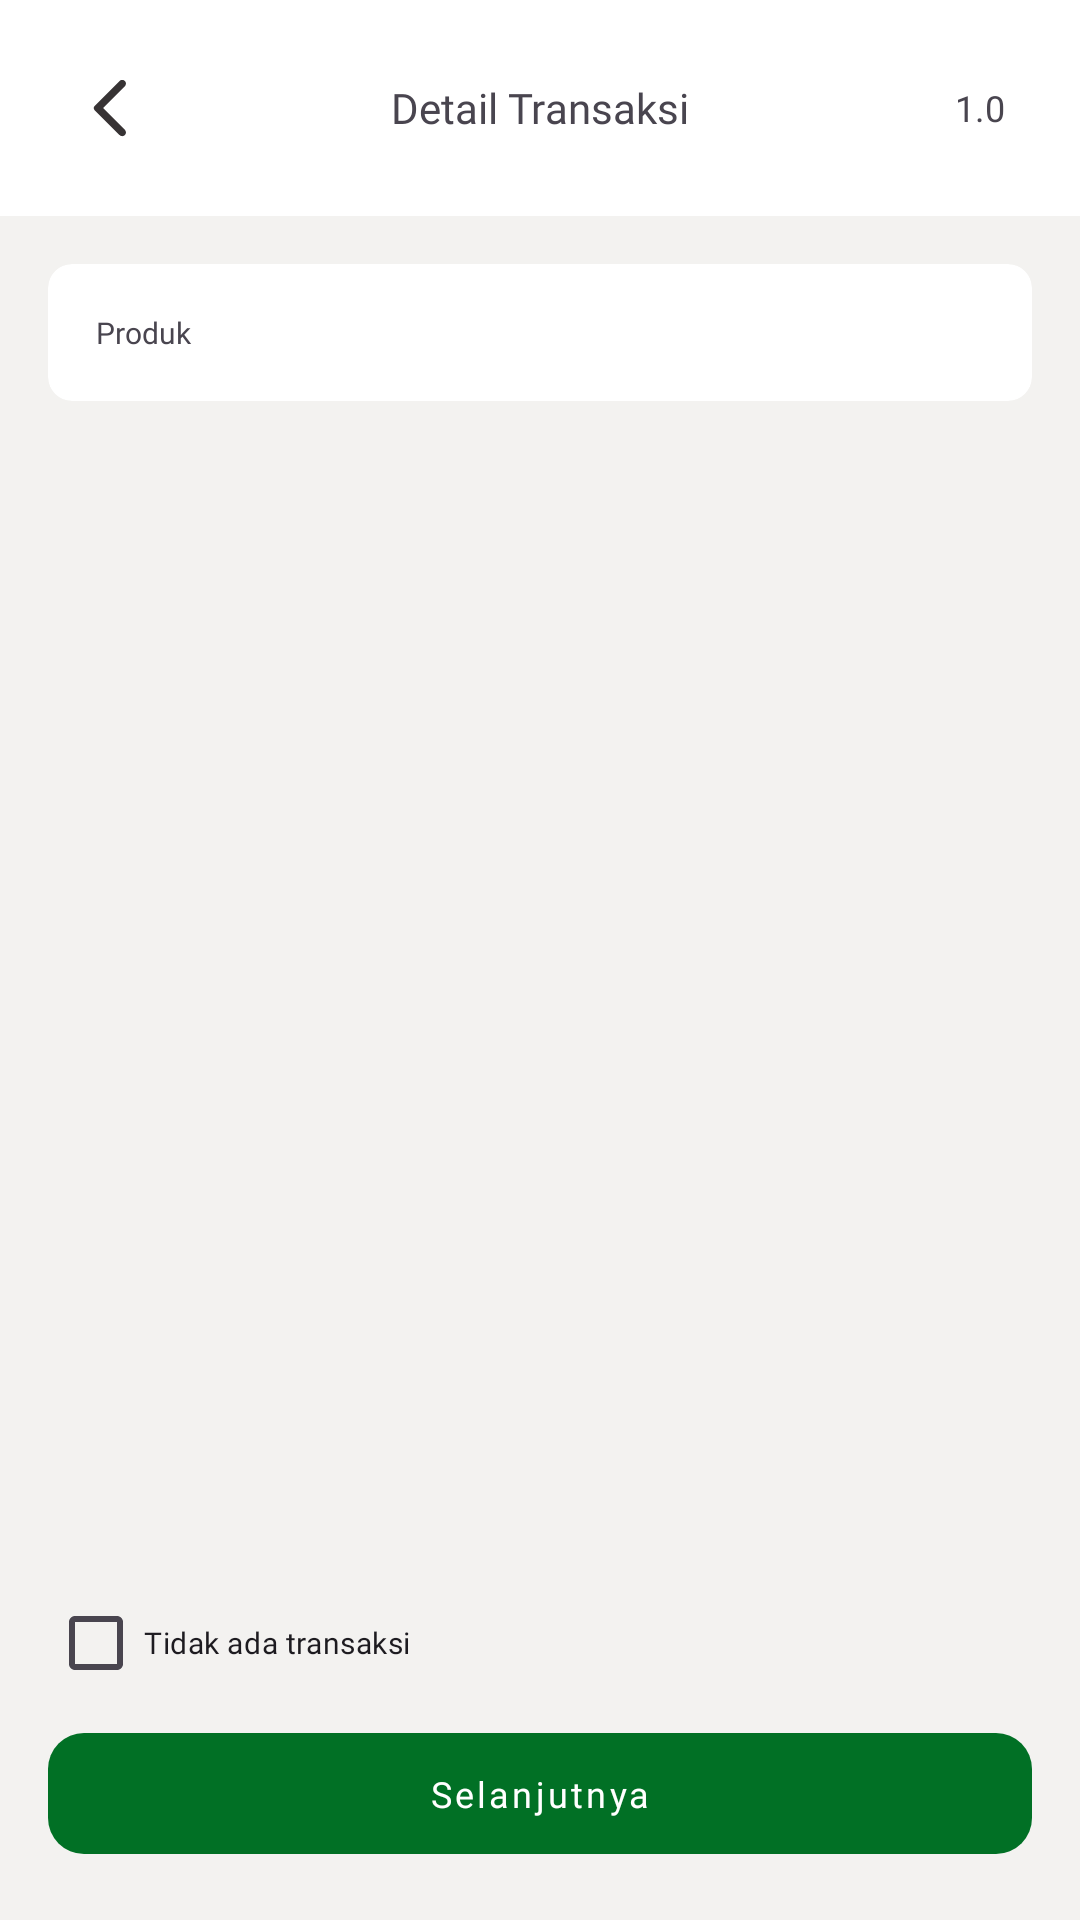

Icon click points for this 1080*1920 phone screenshot, format (x,y):
arrow back: (109,108)
